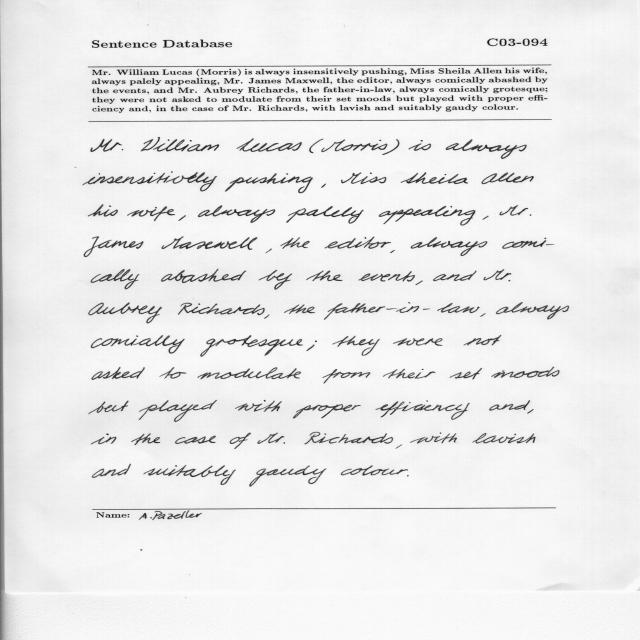word: (324, 302, 480, 320), (83, 172, 217, 192), (200, 335, 303, 356), (375, 400, 470, 420), (379, 206, 476, 225), (144, 465, 236, 485), (91, 335, 185, 354), (225, 174, 313, 194), (139, 400, 217, 422), (249, 465, 326, 487), (446, 139, 527, 159), (88, 302, 162, 323), (411, 237, 487, 256), (198, 205, 275, 223), (287, 206, 364, 224), (162, 236, 258, 250), (496, 302, 569, 320), (84, 237, 144, 258), (198, 368, 301, 380), (161, 269, 246, 283), (141, 137, 219, 152), (304, 433, 393, 445), (178, 303, 265, 315), (91, 269, 140, 290), (332, 336, 380, 356), (293, 404, 361, 418), (236, 138, 302, 152), (324, 236, 391, 249), (401, 172, 468, 184), (321, 140, 387, 152), (492, 367, 560, 378), (340, 465, 408, 476), (127, 206, 175, 221), (323, 369, 371, 384), (472, 433, 536, 444), (92, 367, 145, 380), (259, 270, 292, 290), (481, 172, 534, 184), (358, 271, 415, 282), (502, 238, 554, 249), (235, 400, 282, 412), (341, 172, 386, 184), (93, 464, 131, 478), (383, 369, 435, 379), (89, 401, 129, 414), (410, 433, 457, 444), (489, 400, 530, 411), (433, 271, 477, 281), (91, 139, 123, 152), (393, 338, 442, 346), (464, 335, 501, 345), (175, 435, 216, 444), (88, 205, 118, 217), (280, 237, 310, 249), (306, 271, 342, 281), (500, 205, 532, 216), (450, 368, 482, 379), (484, 270, 512, 282), (230, 433, 251, 449), (160, 367, 187, 379), (131, 434, 160, 445), (284, 304, 315, 314), (258, 433, 286, 444), (92, 434, 117, 445), (383, 139, 400, 155), (409, 140, 431, 151), (310, 139, 324, 153), (306, 340, 317, 351), (178, 215, 186, 221), (395, 444, 402, 449), (415, 281, 423, 285), (266, 249, 272, 254), (527, 409, 534, 413), (483, 216, 489, 220), (321, 184, 326, 188), (264, 315, 269, 319), (480, 313, 485, 317), (390, 250, 395, 253), (407, 475, 409, 477)
